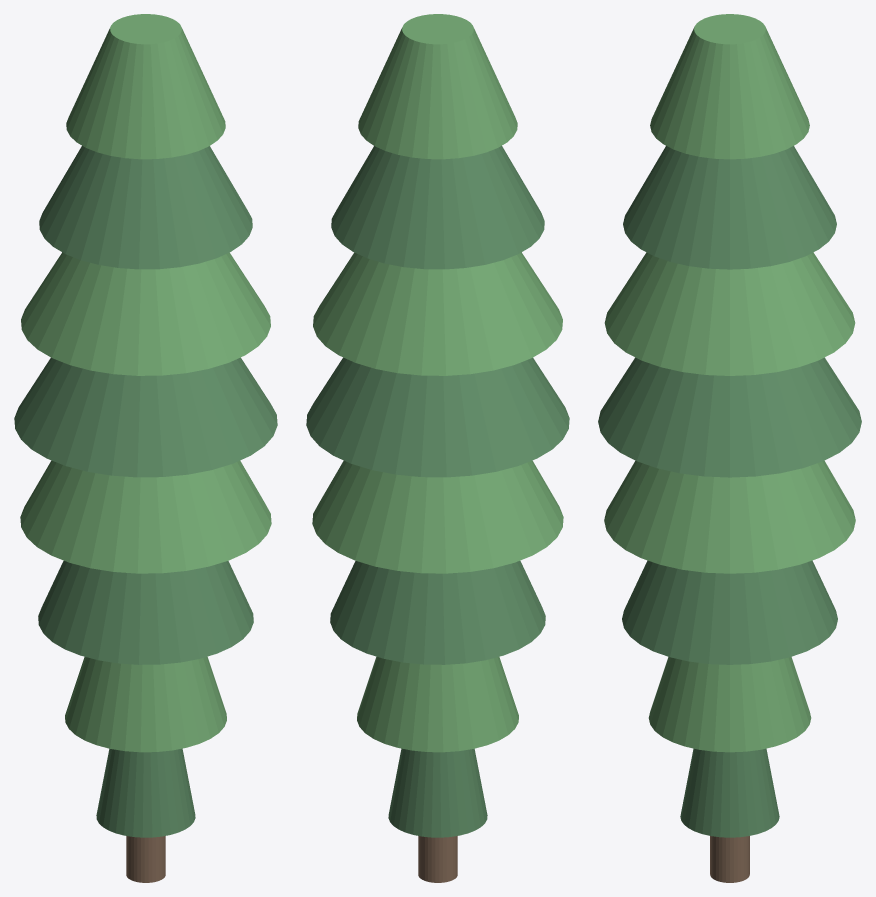
File: cypress_tree_01.glb
3 views of the same model, side by side, from view 1: azimuth 30°, elevation 25°; view 2: azimuth 150°, elevation 25°; view 3: azimuth 270°, elevation 25° (orthographic).
Visible parts, largest first — view 1: Cypress_Tree_01; view 2: Cypress_Tree_01; view 3: Cypress_Tree_01.
Boxes of the visible parts, left/top/right/bottom form: Cypress_Tree_01: left=14, top=14, right=277, bottom=882; Cypress_Tree_01: left=306, top=14, right=569, bottom=882; Cypress_Tree_01: left=598, top=14, right=861, bottom=882.
Bounding box in the file's own units: 1.86 × 6.57 × 1.86.
